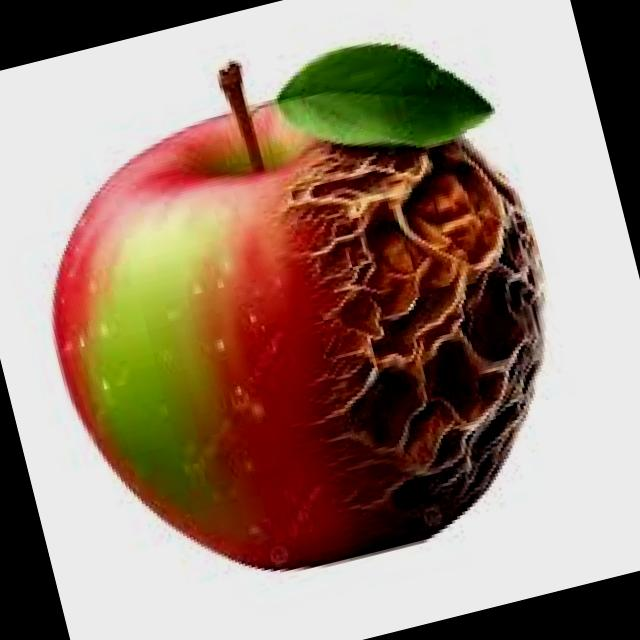Rotten Apple: (4, 46, 601, 614)
